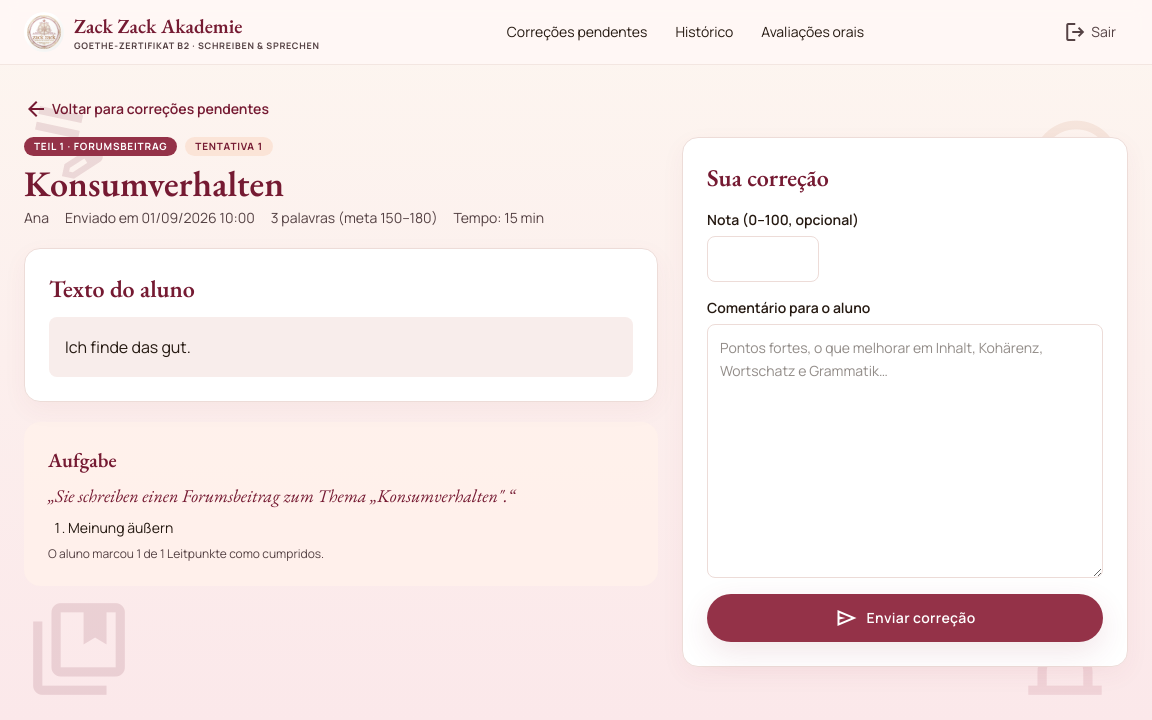
Test: teacher review › rejects a score outside 0–100
The width and height of the screenshot is (1152, 720).
In the field labelled "Nota (0–100, opcional)": (763, 259) [707,236,819,282], type "150"
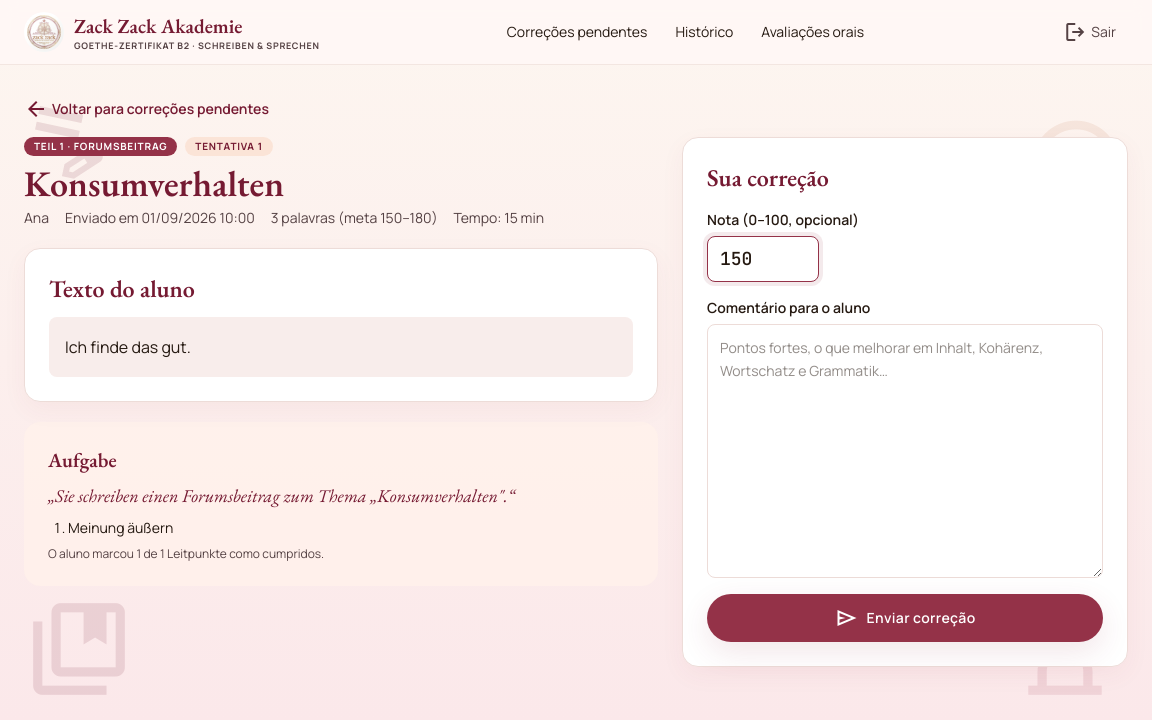
In the text box labelled "Comentário para o aluno": (905, 451) [707,324,1103,578], type "Gut"
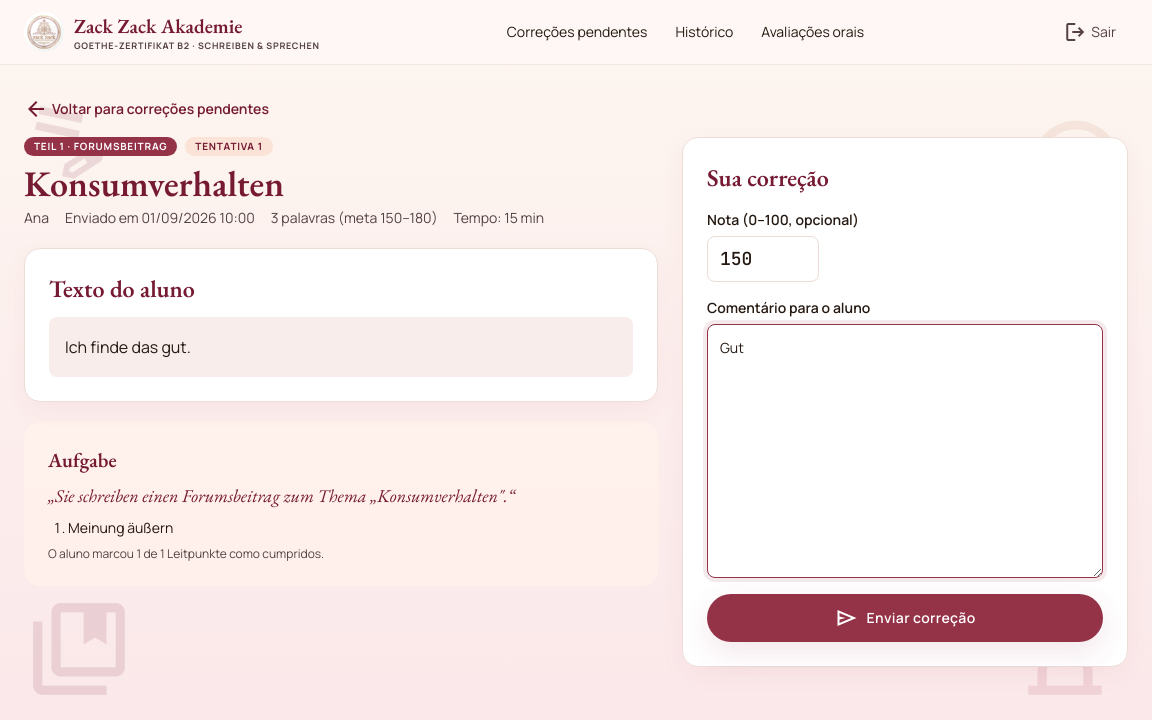
Click the button "Enviar correção": (905, 618) [707,594,1103,642]
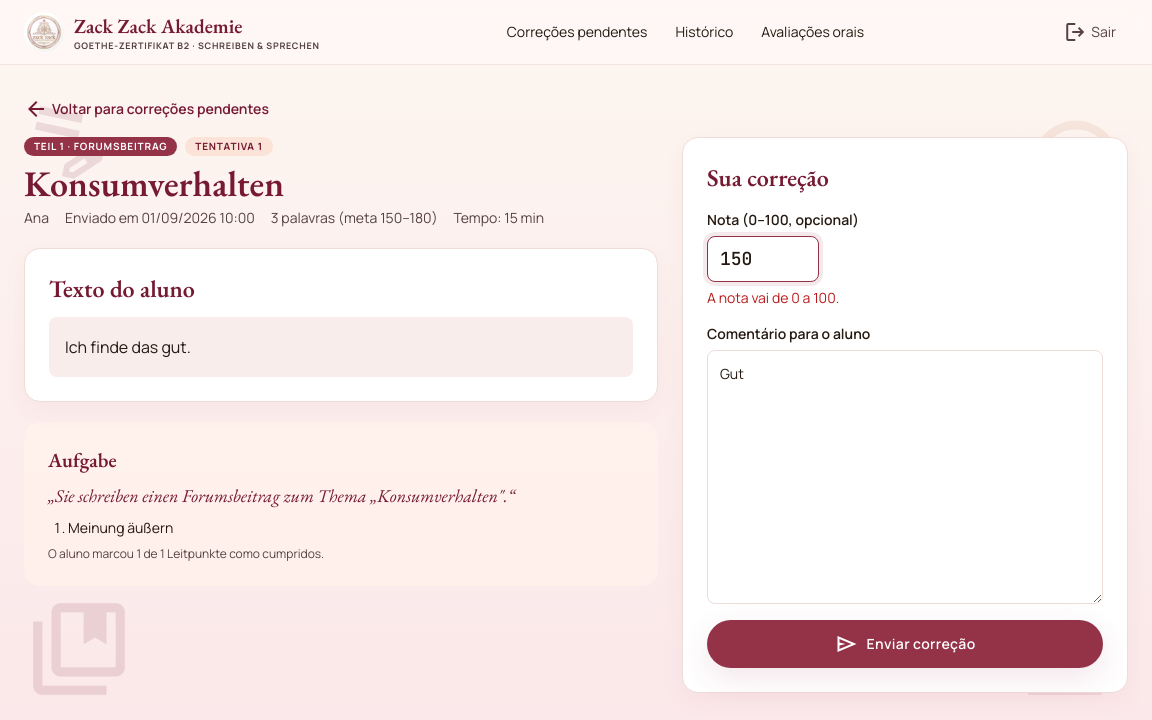
Result: the text "A nota vai de 0 a 100." is shown at [707,288,839,307]
